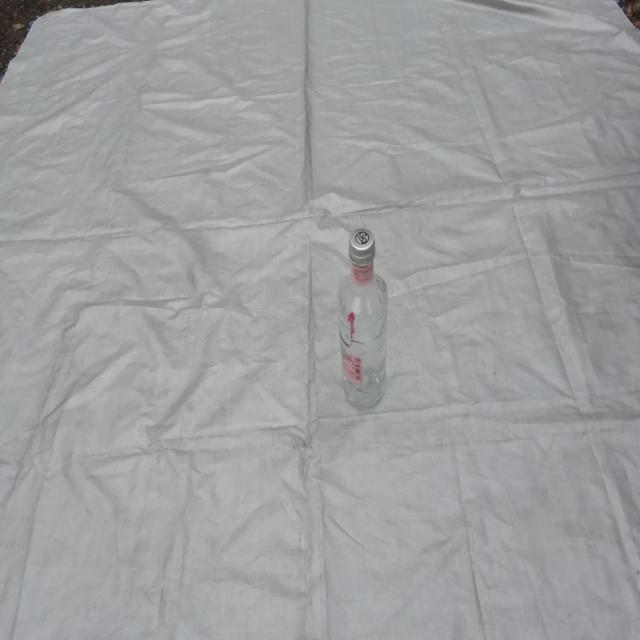glass: (338, 228, 388, 407)
